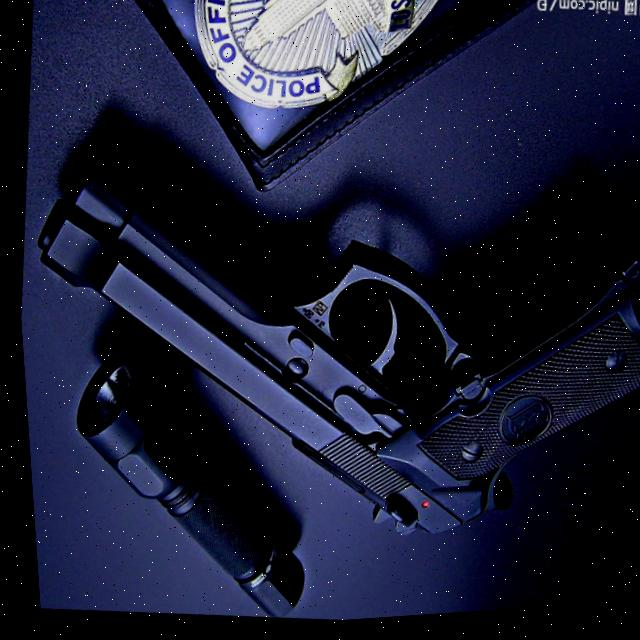pistol: (7, 102, 640, 590)
